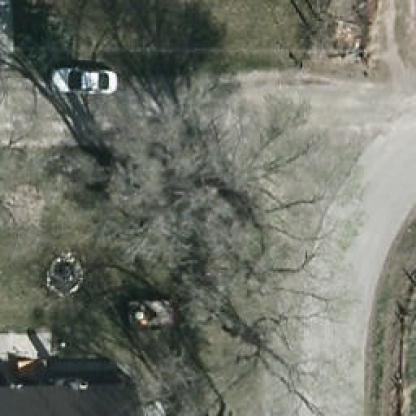car: (48, 64, 119, 98)
